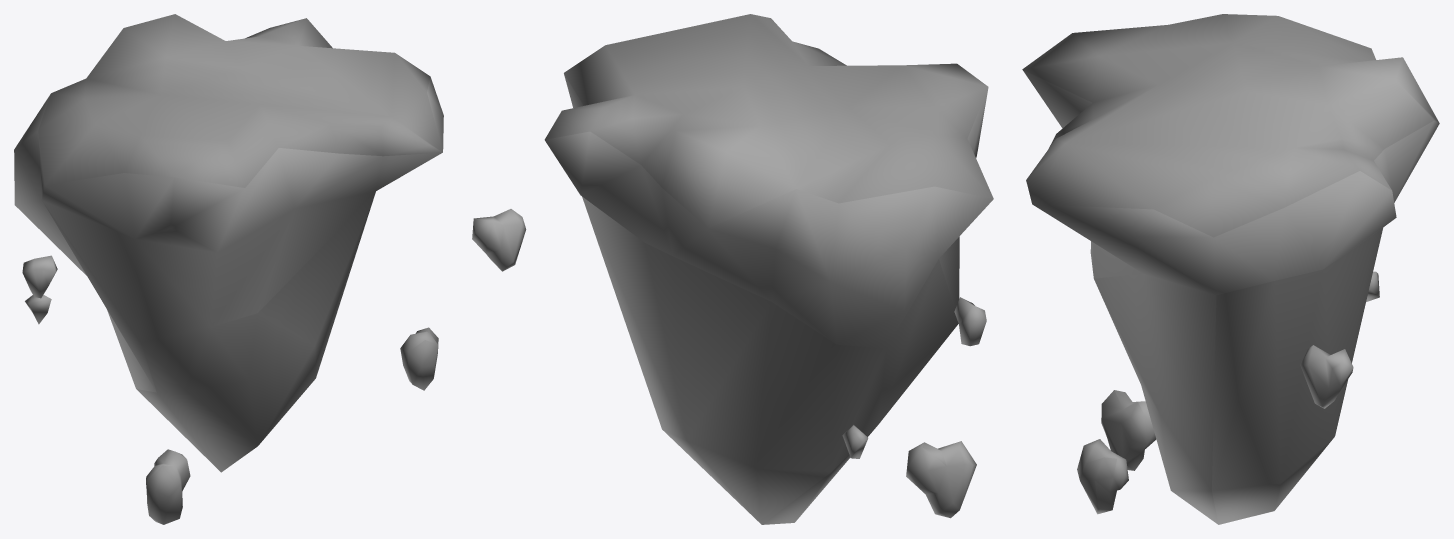
File: MuiscasBoavitaRocas.fbx
The picture shows the model from 3 angles, left to right: view 1: azimuth 30°, elevation 25°; view 2: azimuth 150°, elevation 25°; view 3: azimuth 270°, elevation 25°; orthographic projection. The views are drawn at different scales.
Parts seen in each view (by area): view 1: RocaBoavita; view 2: RocaBoavita; view 3: RocaBoavita.
Boxes of the visible parts, <box> form: RocaBoavita: <box>14,14,443,524</box>; RocaBoavita: <box>472,14,993,524</box>; RocaBoavita: <box>1022,14,1439,524</box>.
Size of the model in its own units: 255 by 230 by 188.
Materials: 1 (1 with a texture image).
